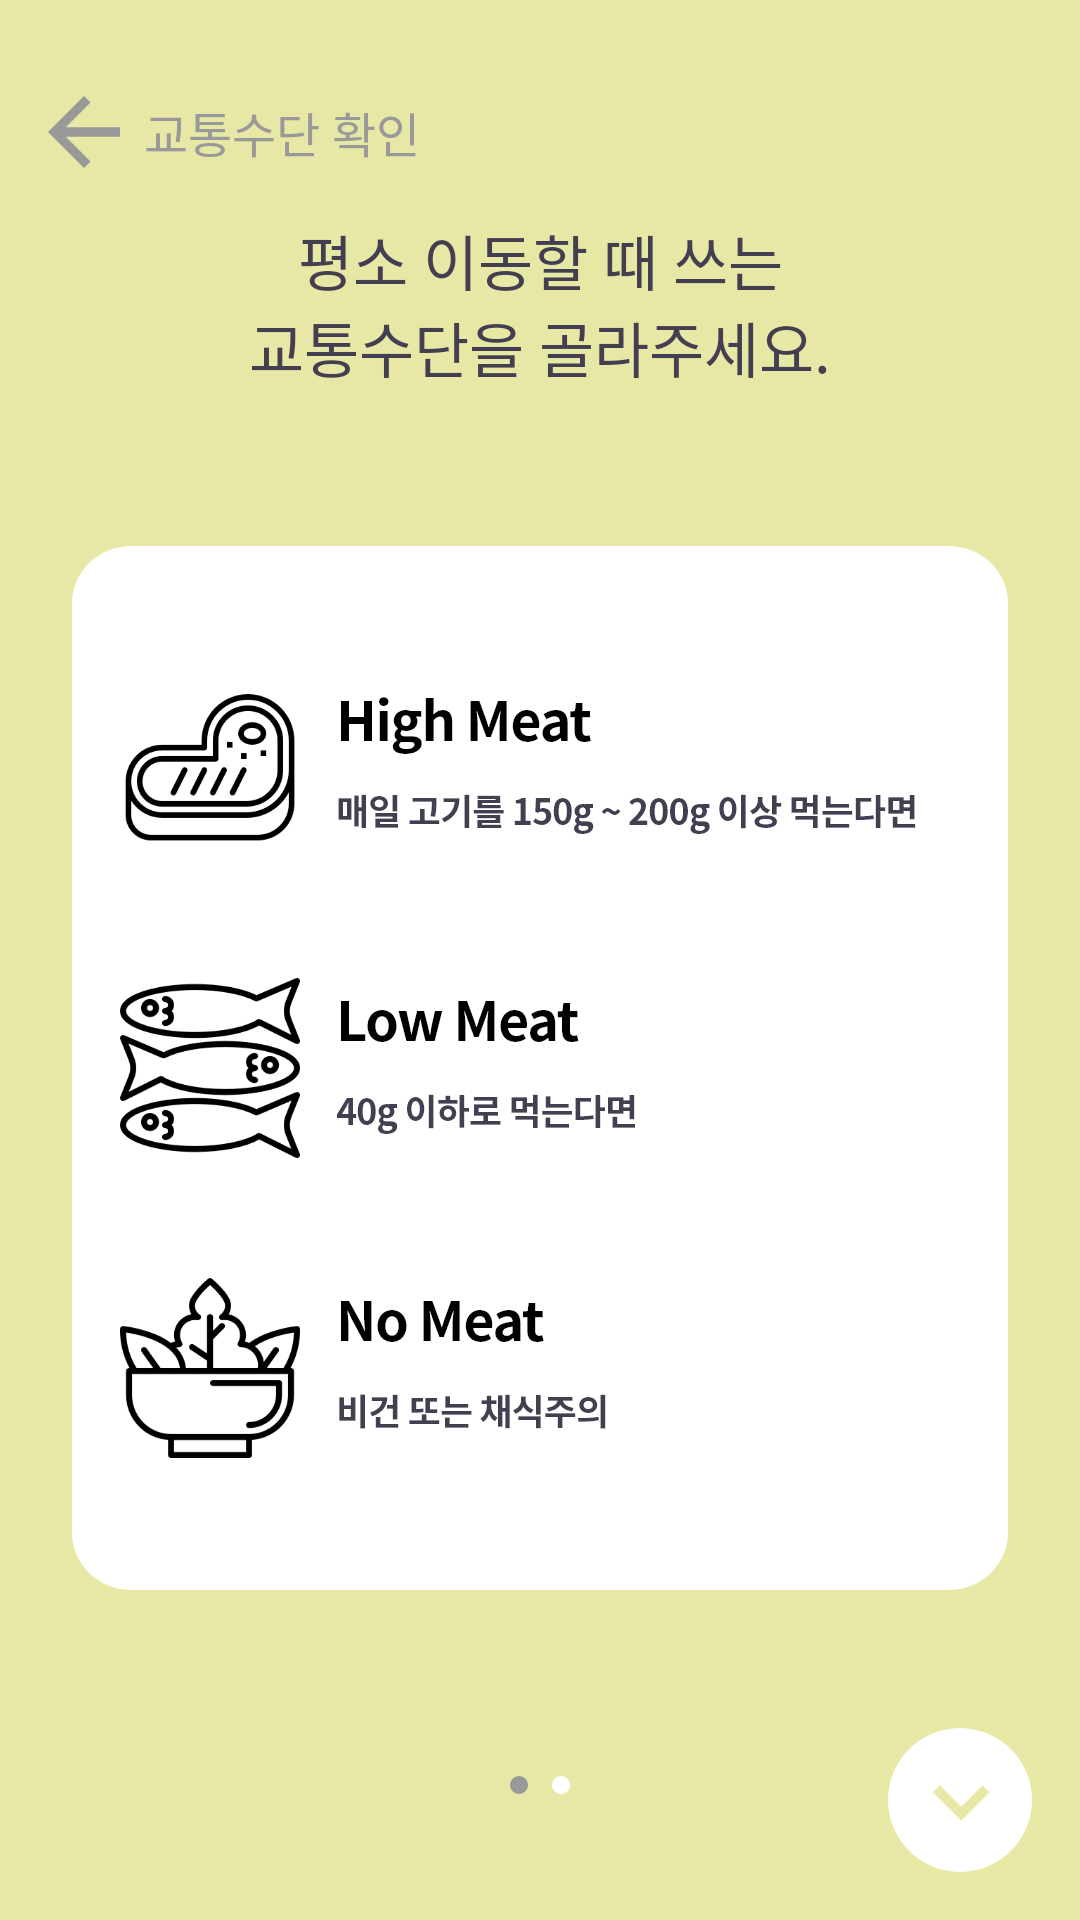

Icons on this 1080px×1920px Android screen, each with its box as BBox(x1, y1, x2, y2):
backward arrow: BBox(48, 96, 120, 168)
